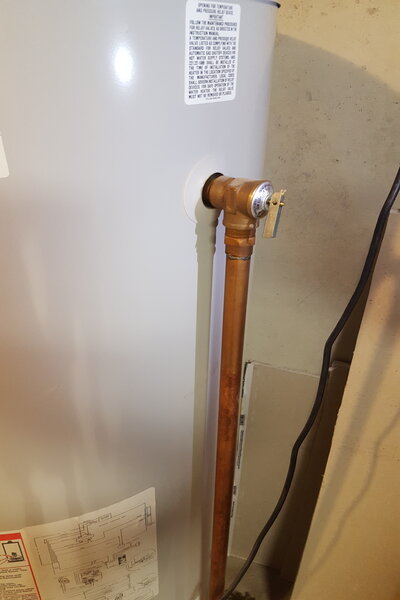valve: (201, 169, 289, 280)
